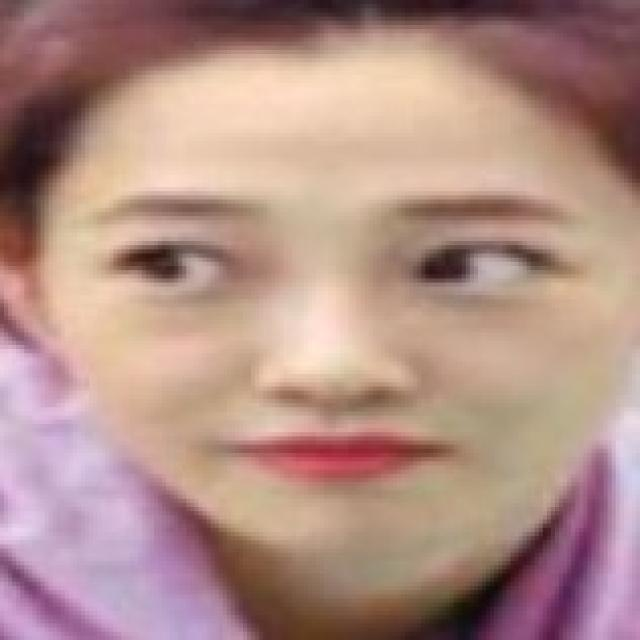no_mask: (46, 54, 609, 562)
